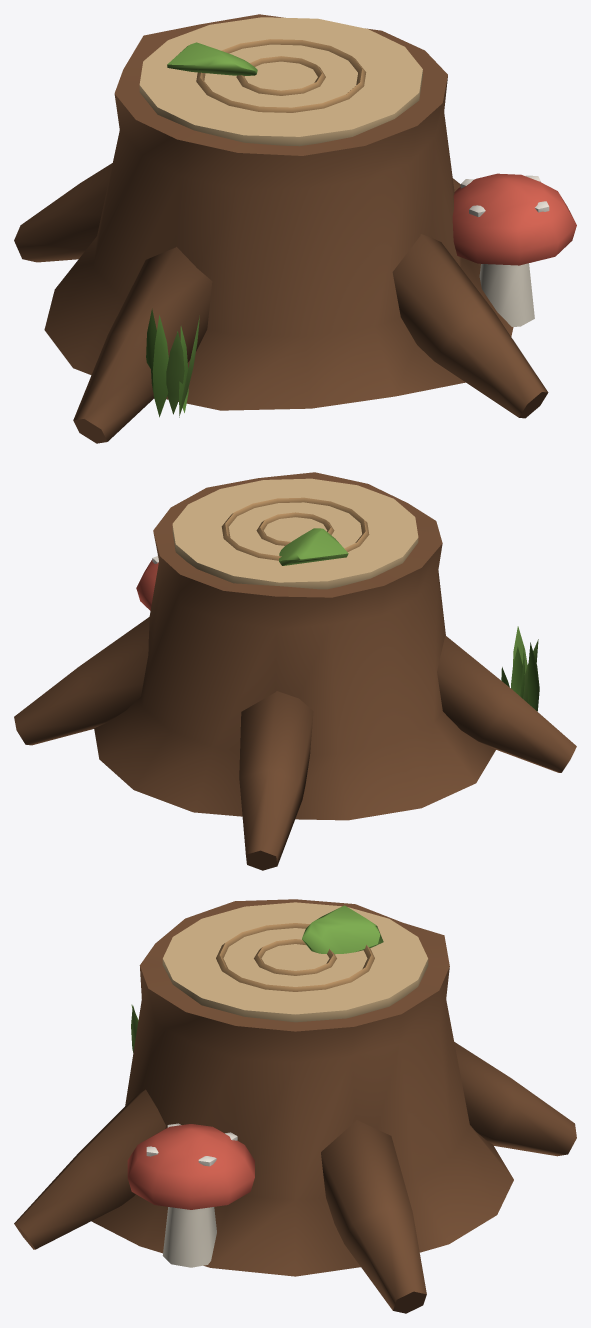
Rendered from stump.glb.
The picture shows the model from 3 angles, top to bottom: view 1: azimuth 30°, elevation 25°; view 2: azimuth 150°, elevation 25°; view 3: azimuth 270°, elevation 25°; orthographic projection. The views are drawn at different scales.
Parts seen in each view (by area): view 1: Stump; view 2: Stump; view 3: Stump.
Part boxes in pixels (x1,y1,x2,y2): Stump: (14, 14, 576, 443); Stump: (14, 472, 576, 870); Stump: (14, 899, 576, 1313).
Size of the model in its own units: 1.19 by 0.6175 by 1.19.
